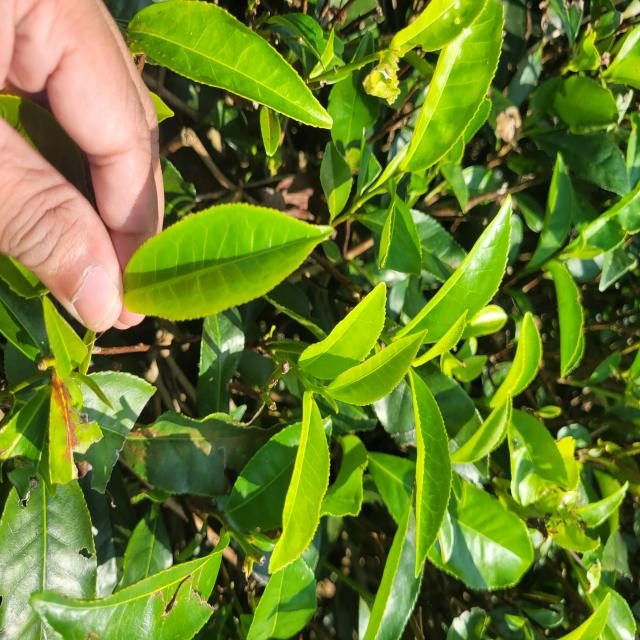Catagory A(1-2 days): (92, 190, 361, 318)
